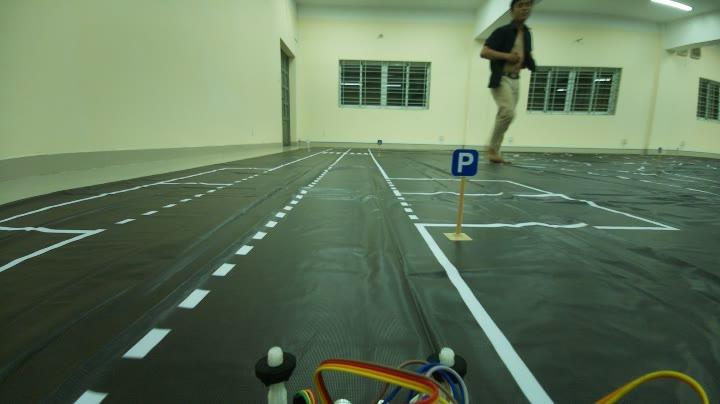parking: (444, 144, 483, 184)
